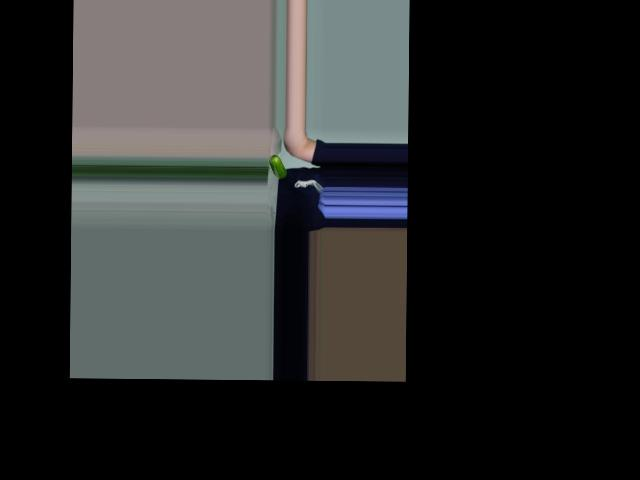cucumber: (268, 154, 286, 178)
